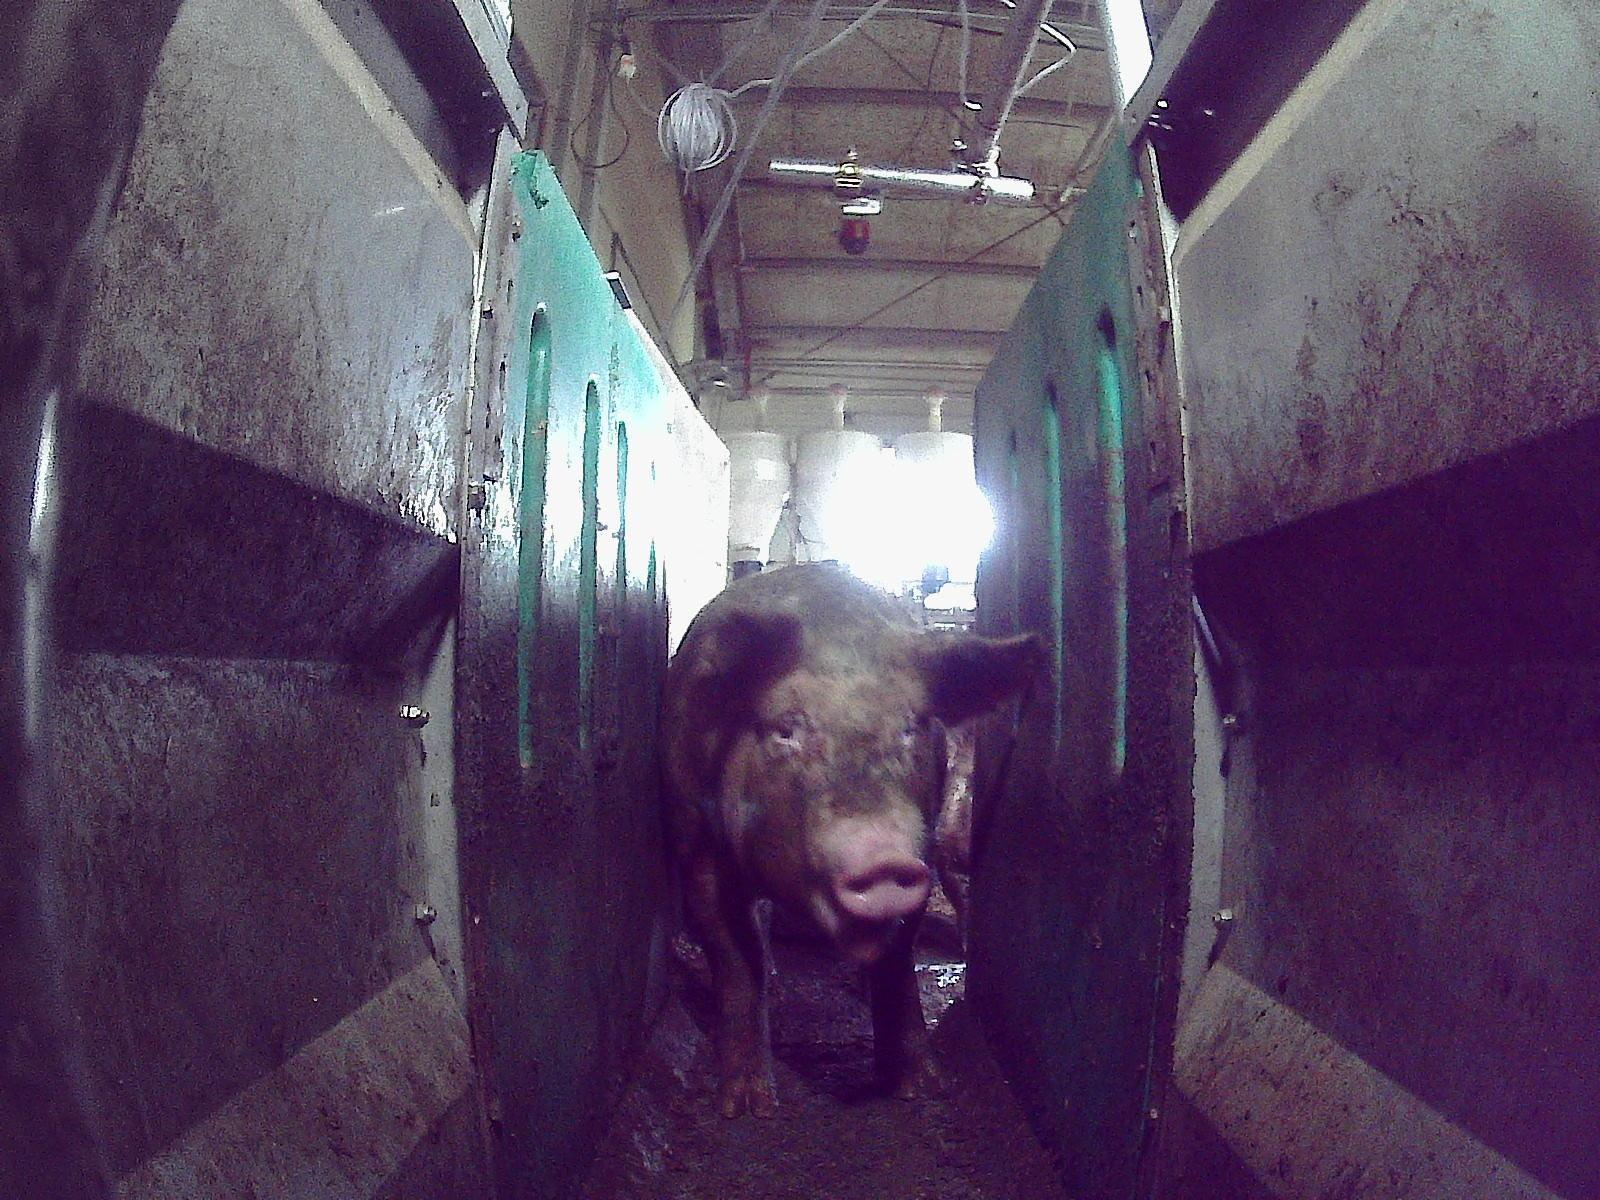Face: (706, 634, 928, 956)
